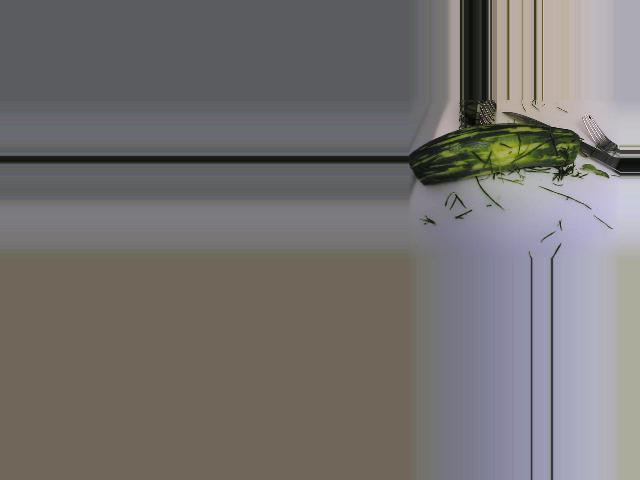cucumber: (409, 123, 580, 186)
